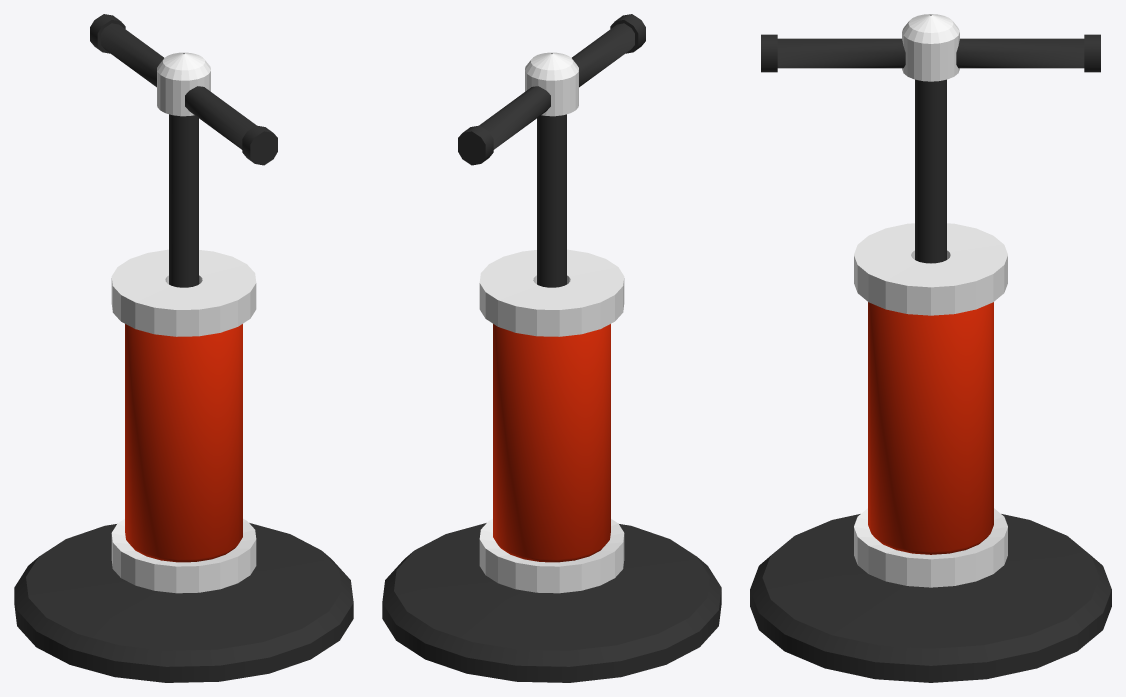
Rendered from aire.fbx.
The picture shows the model from 3 angles, left to right: view 1: azimuth 30°, elevation 25°; view 2: azimuth 150°, elevation 25°; view 3: azimuth 270°, elevation 25°; orthographic projection. The views are drawn at different scales.
Parts seen in each view (by area): view 1: tubo, pie, agarre; view 2: tubo, pie, agarre; view 3: tubo, pie, agarre.
Part boxes in pixels (x1,y1,x2,y2): tubo: (111,249,256,593); pie: (14,523,353,682); agarre: (90,14,277,287); tubo: (479,249,624,593); pie: (382,523,721,682); agarre: (458,14,645,287); tubo: (854,223,1007,587); pie: (750,514,1111,682); agarre: (761,14,1100,263).
Bounding box in the file's own units: 576 × 1038 × 576.
